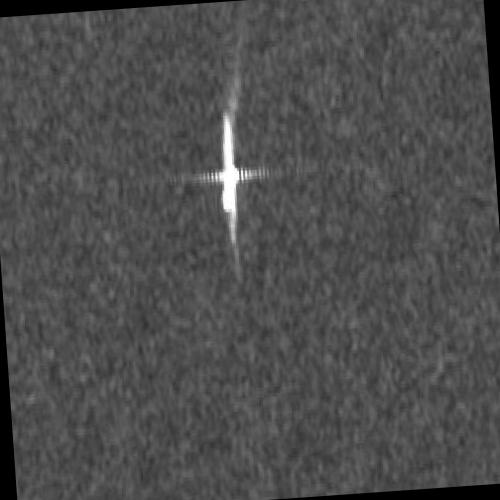ship: (221, 114, 236, 214)
